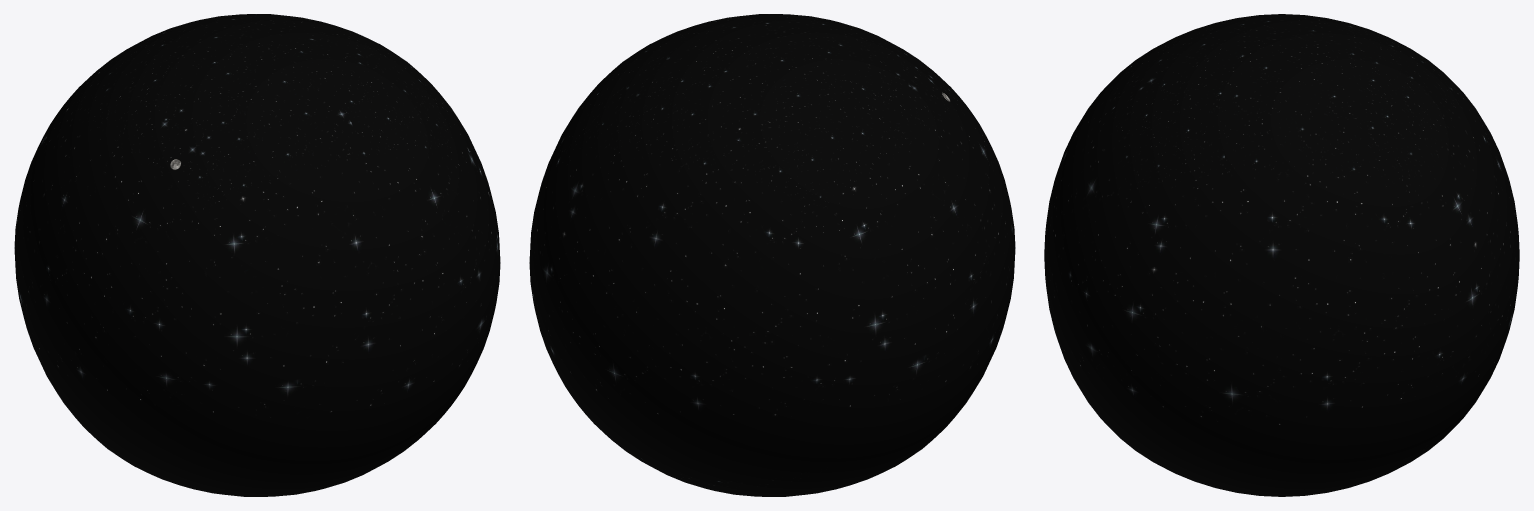
File: nightskyball.obj
3 renders of one model, left to right at view 1: azimuth 30°, elevation 25°; view 2: azimuth 150°, elevation 25°; view 3: azimuth 270°, elevation 25°, orthographic.
Parts seen in each view (by area): view 1: cube1_Sky Side, cube1_Ceiling; view 2: cube1_Sky Side, cube1_Ceiling; view 3: cube1_Sky Side, cube1_Ceiling.
Boxes of the visible parts, x1,y1,x2,y2 form: cube1_Sky Side: [14, 72, 500, 481]; cube1_Ceiling: [64, 14, 450, 496]; cube1_Sky Side: [529, 72, 1015, 481]; cube1_Ceiling: [579, 14, 965, 496]; cube1_Sky Side: [1044, 78, 1519, 484]; cube1_Ceiling: [1109, 14, 1454, 496].
Bounding box in the file's own units: 84.19 × 84.19 × 84.19.
2 materials, 2 textured.
